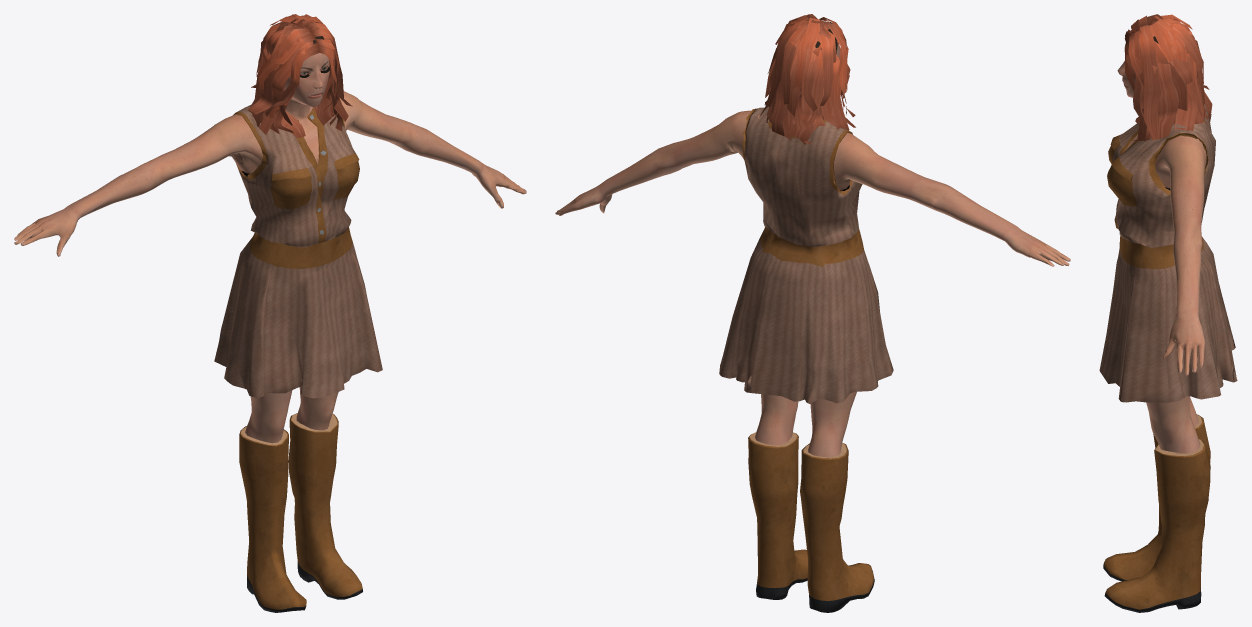
Rendered from girls.fbx.
3 renders of one model, left to right at view 1: azimuth 30°, elevation 25°; view 2: azimuth 150°, elevation 25°; view 3: azimuth 270°, elevation 25°, orthographic.
Visible parts, largest first — view 1: woman2; view 2: woman2; view 3: woman2.
Part boxes in pixels (x1,y1,x2,y2): woman2: (14, 14, 526, 612); woman2: (555, 14, 1070, 612); woman2: (1099, 14, 1237, 612).
Bounding box in the file's own units: 185 × 199 × 43.29.
Materials: 4 (4 with a texture image).
